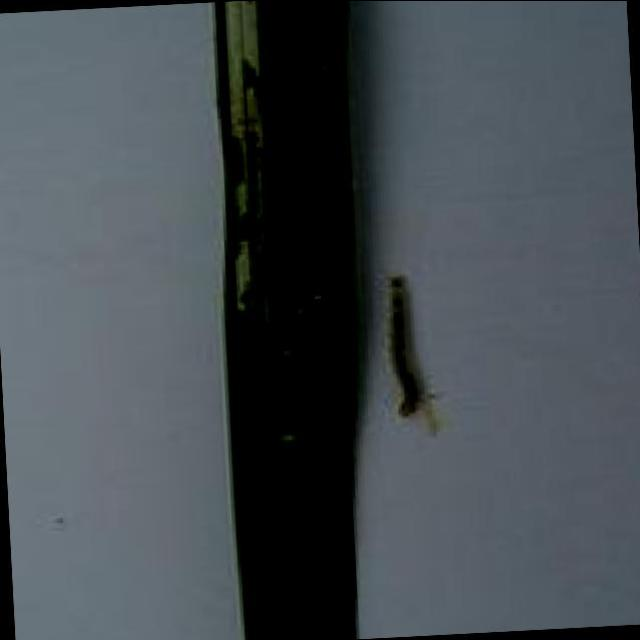leaf folder: (388, 277, 422, 417)
